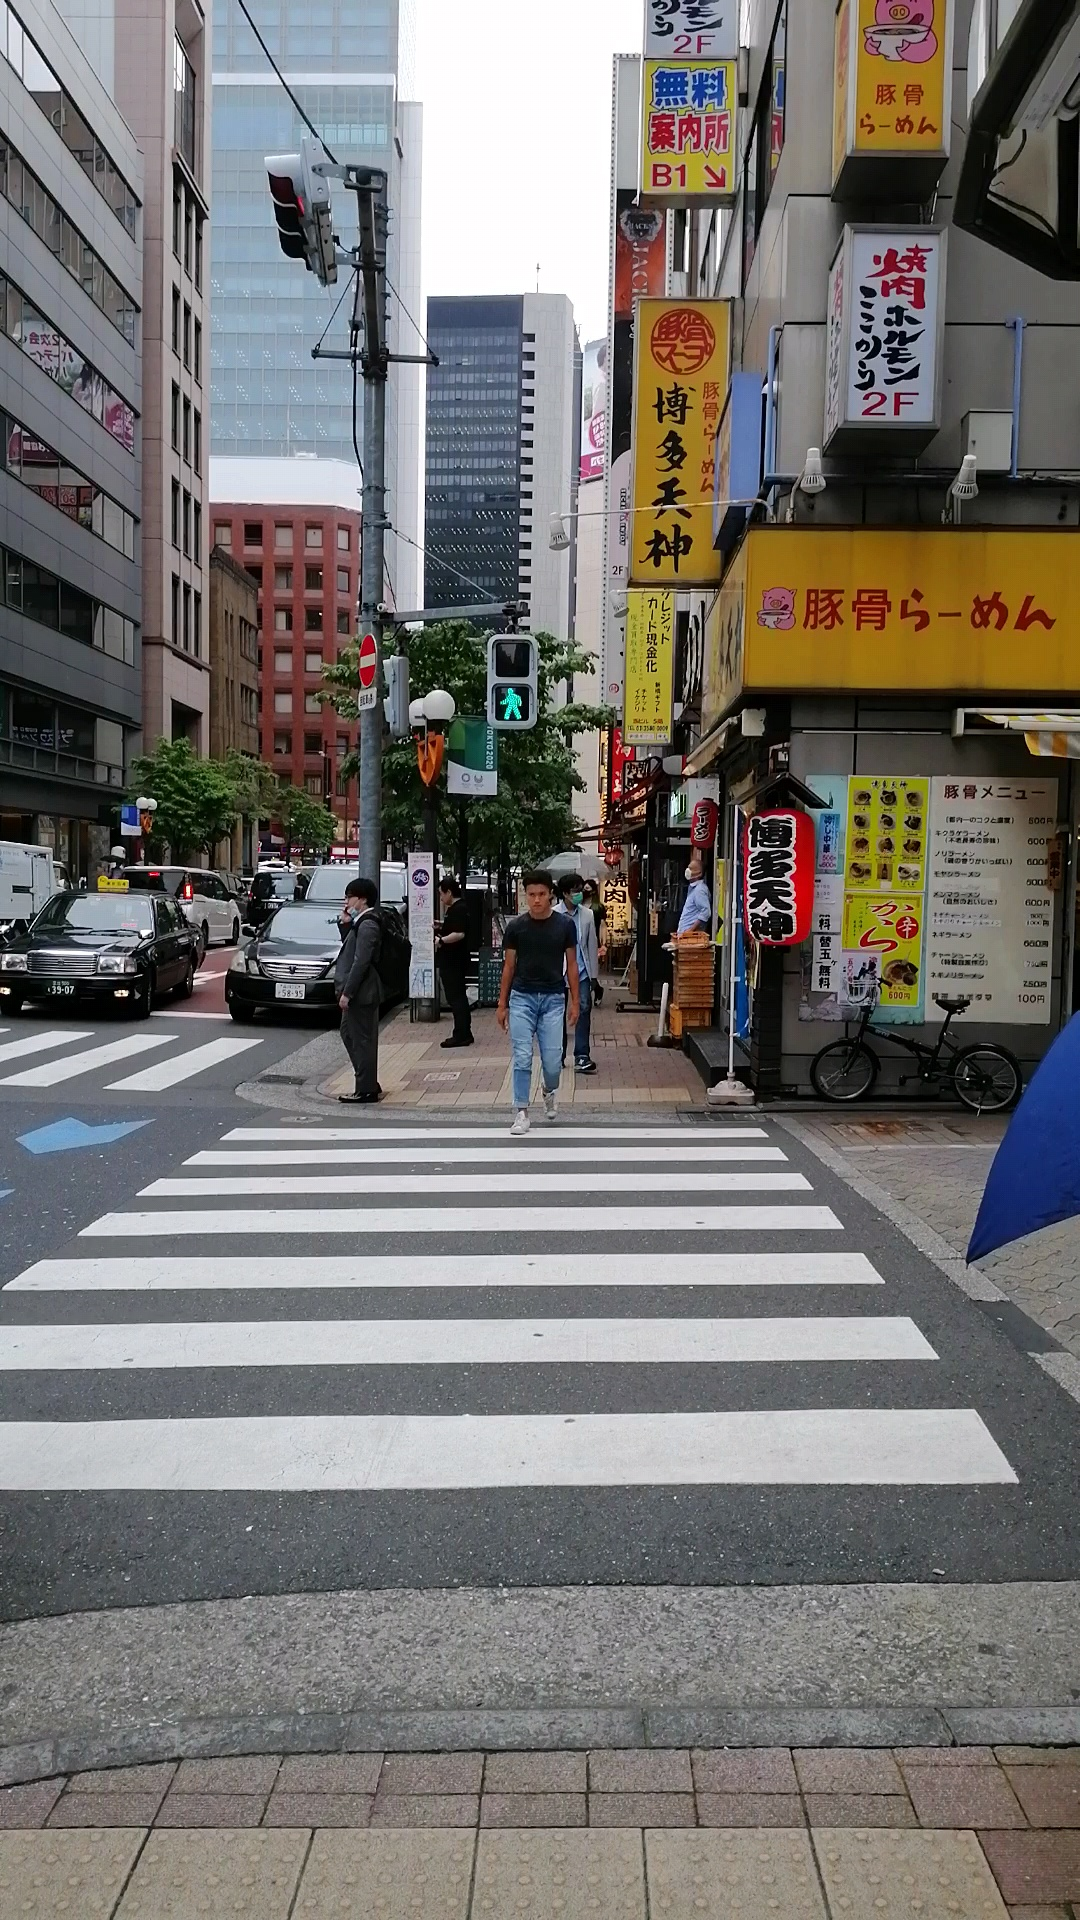green: (487, 632, 535, 731)
